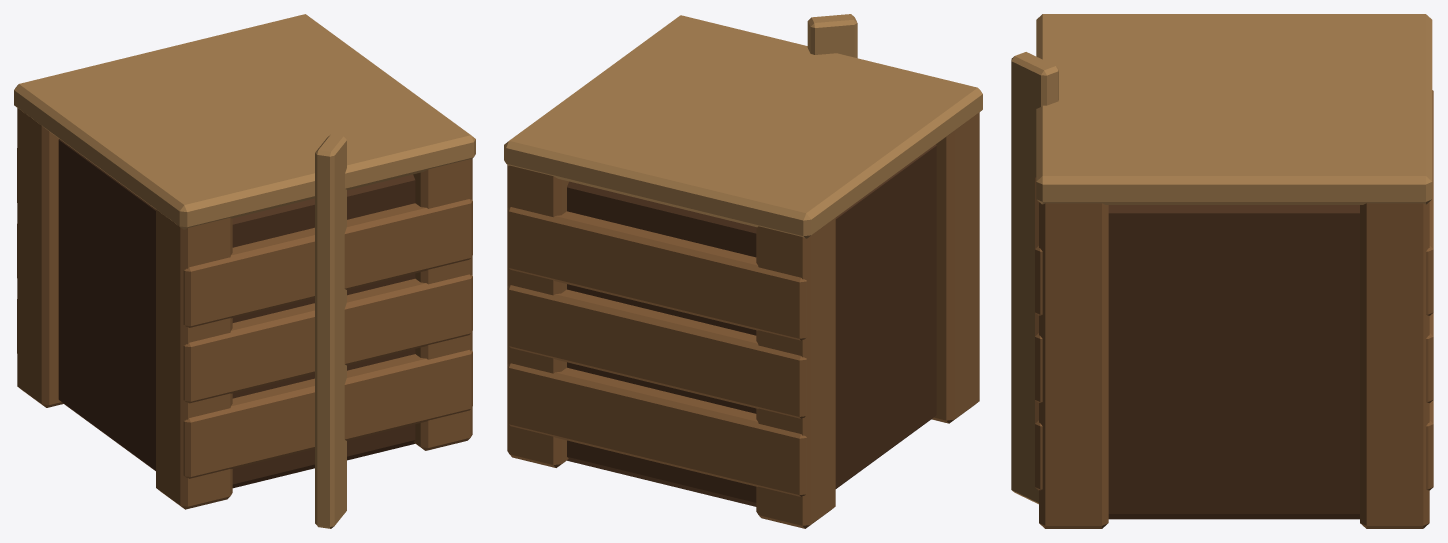
Rendered from crate.fbx.
3 renders of one model, left to right at view 1: azimuth 30°, elevation 25°; view 2: azimuth 150°, elevation 25°; view 3: azimuth 270°, elevation 25°, orthographic. The views are drawn at different scales.
Visible parts, largest first — view 1: crate; view 2: crate; view 3: crate.
Boxes of the visible parts, x1=… form: crate: x1=14, y1=14, x2=475, y2=528; crate: x1=504, y1=14, x2=982, y2=528; crate: x1=1011, y1=14, x2=1433, y2=528.
Bounding box in the file's own units: 74 × 90 × 78.91.
